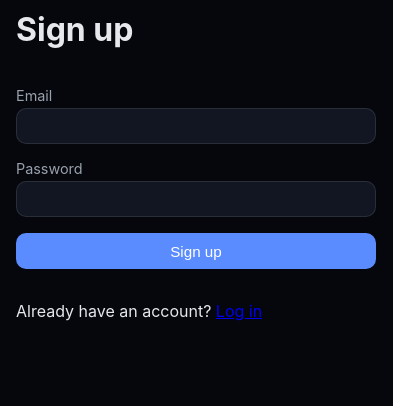
Test: Register › shows sign-up errors
Type "a@b.com" into the field labelled "Email" at {"x": 196, "y": 126}, box [16, 108, 376, 144]
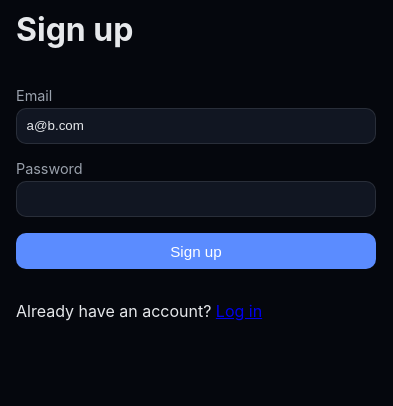
Type "secret1" into the password field labelled "Password" at {"x": 196, "y": 199}, box [16, 181, 376, 217]
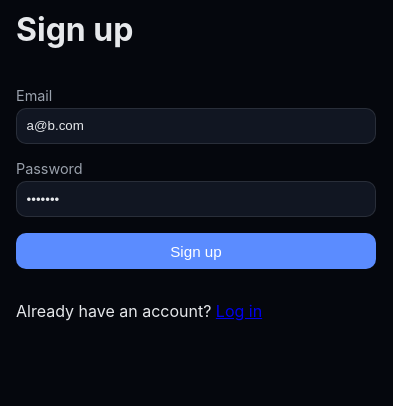
Click the button "Sign up" at {"x": 196, "y": 251}, box [16, 233, 376, 270]
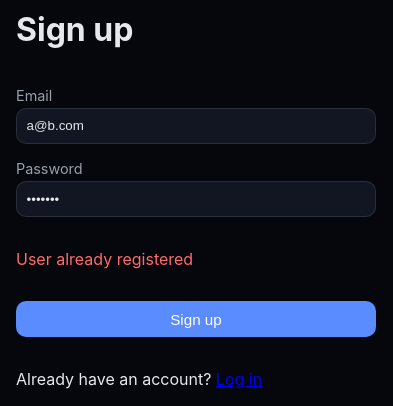
Check: the text "User already registered" is shown, box [16, 249, 193, 269]
